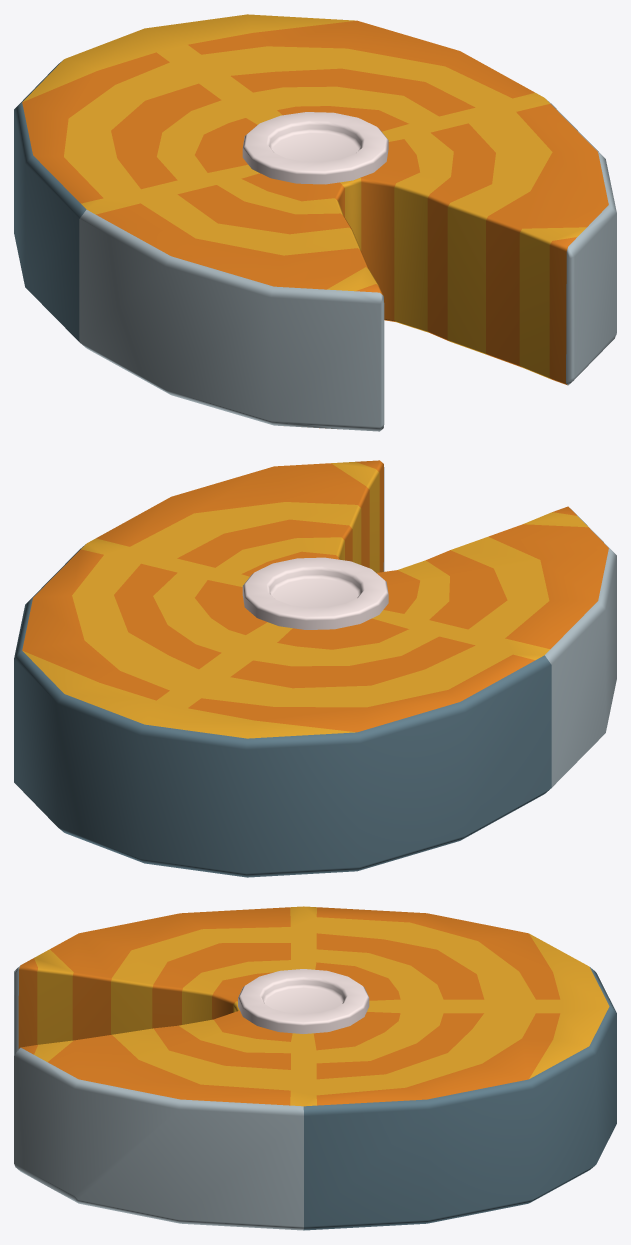
Rendered from Salmon_2_Steak_1.fbx.
3 renders of one model, top to bottom at view 1: azimuth 30°, elevation 25°; view 2: azimuth 150°, elevation 25°; view 3: azimuth 270°, elevation 25°, orthographic. The views are drawn at different scales.
Parts seen in each view (by area): view 1: Salmon_2_Steak_1; view 2: Salmon_2_Steak_1; view 3: Salmon_2_Steak_1.
Boxes of the visible parts, x1=… form: Salmon_2_Steak_1: x1=14, y1=14, x2=616, y2=431; Salmon_2_Steak_1: x1=14, y1=460, x2=616, y2=877; Salmon_2_Steak_1: x1=14, y1=906, x2=616, y2=1230.
Size of the model in its own units: 20.5 by 6.79 by 25.36.
